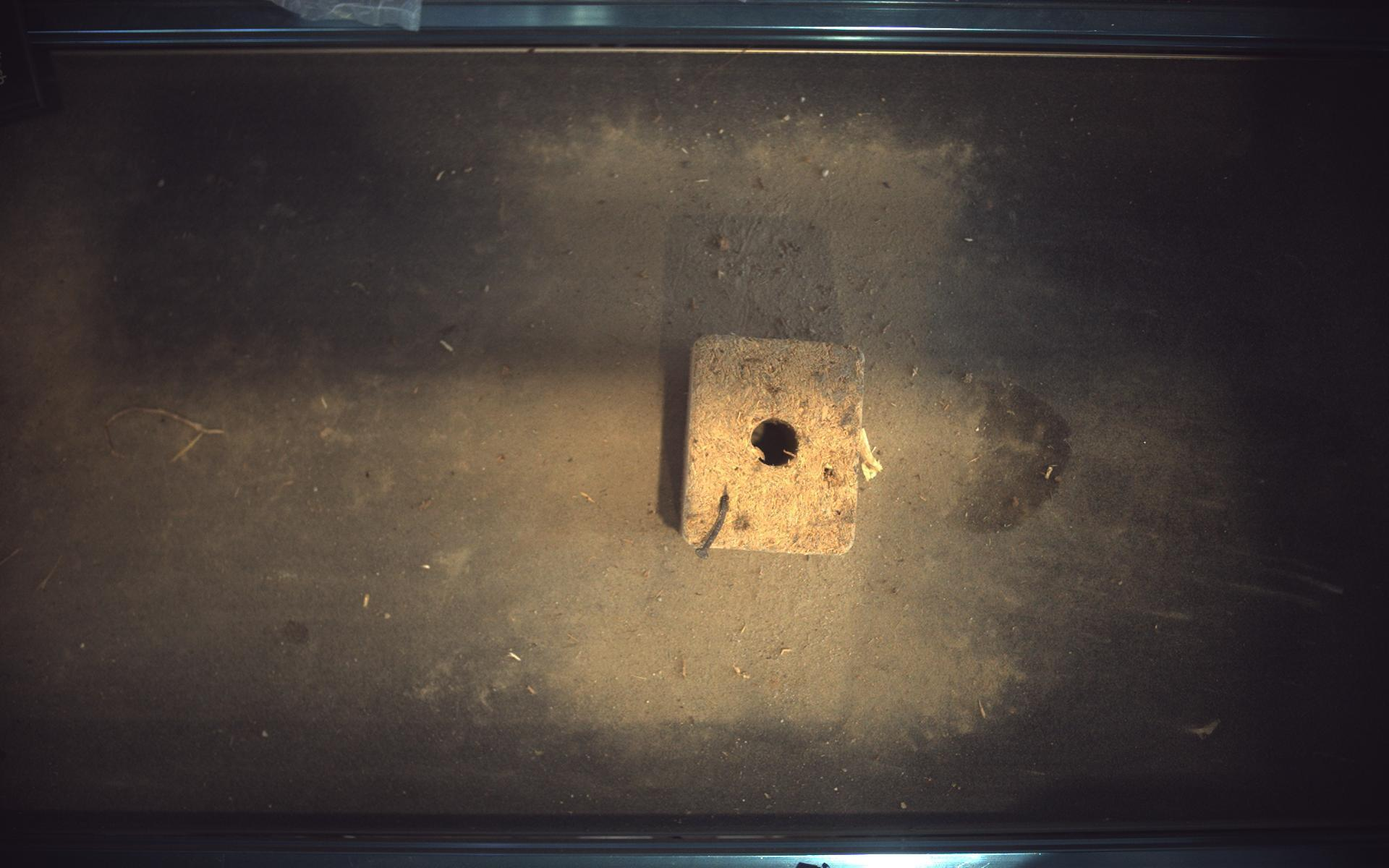wood: (682, 334, 881, 557)
